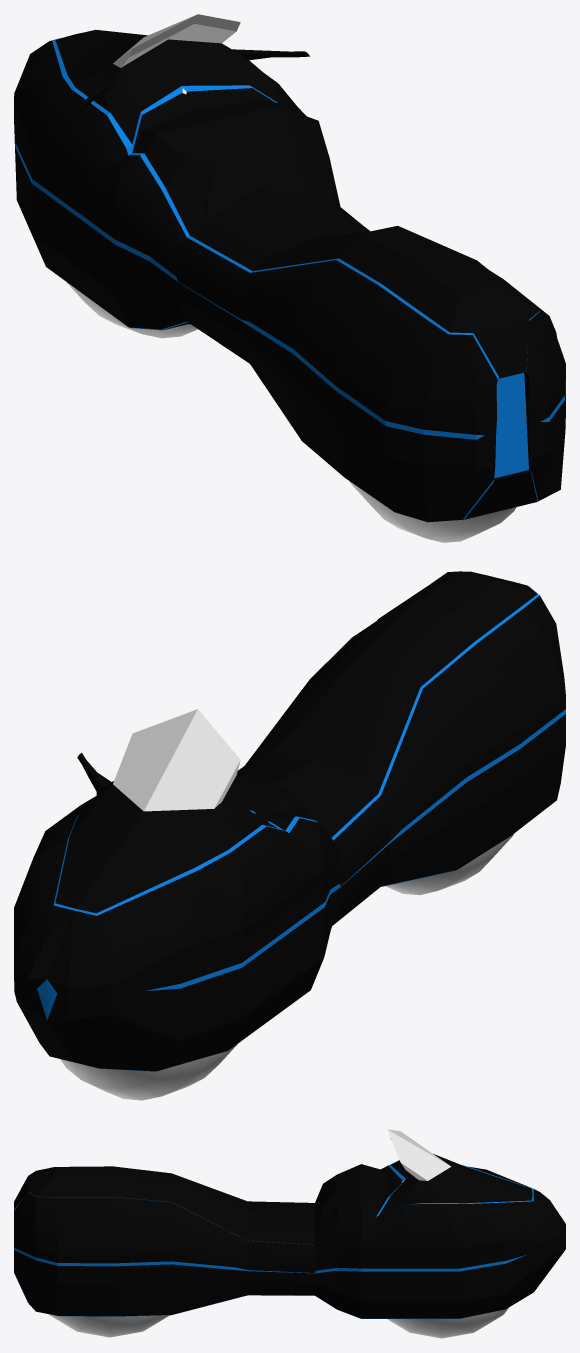
File: Cycle.fbx
3 renders of one model, top to bottom at view 1: azimuth 30°, elevation 25°; view 2: azimuth 150°, elevation 25°; view 3: azimuth 270°, elevation 25°, orthographic. The views are drawn at different scales.
Visible parts, largest first — view 1: MotorcycleBody, BackTyre, FrontTyre; view 2: MotorcycleBody, FrontTyre, BackTyre; view 3: MotorcycleBody, BackTyre, FrontTyre.
Boxes of the visible parts, x1,y1,x2,y2 form: MotorcycleBody: [14, 14, 565, 522]; BackTyre: [349, 481, 516, 542]; FrontTyre: [65, 88, 197, 338]; MotorcycleBody: [14, 571, 565, 1071]; FrontTyre: [60, 1044, 237, 1100]; BackTyre: [385, 834, 513, 895]; MotorcycleBody: [14, 1129, 565, 1318]; BackTyre: [48, 1314, 169, 1337]; FrontTyre: [387, 1180, 508, 1338].
Size of the model in its own units: 177 by 253 by 618.
